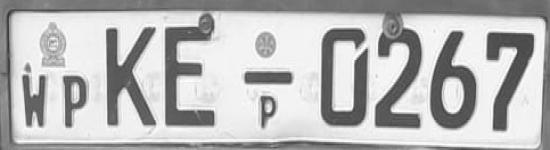-: (241, 63, 299, 93)
0: (315, 22, 370, 132)
2: (370, 20, 427, 133)
6: (429, 21, 482, 136)
7: (481, 22, 538, 144)
E: (162, 15, 221, 147)
K: (96, 16, 161, 135)
P: (58, 70, 93, 132)
W: (16, 65, 56, 136)
